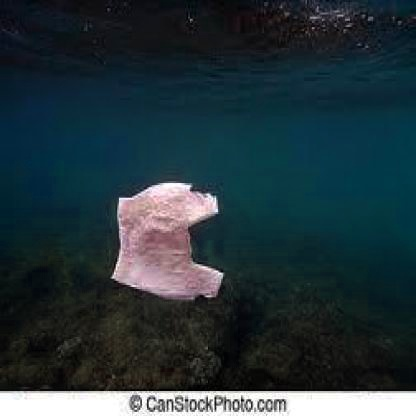pbag: (110, 181, 224, 304)
